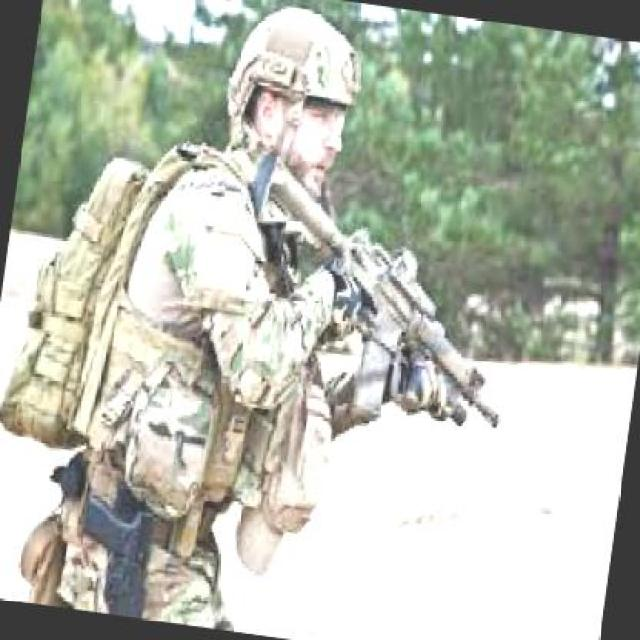MIL_Pax: (25, 0, 383, 637)
